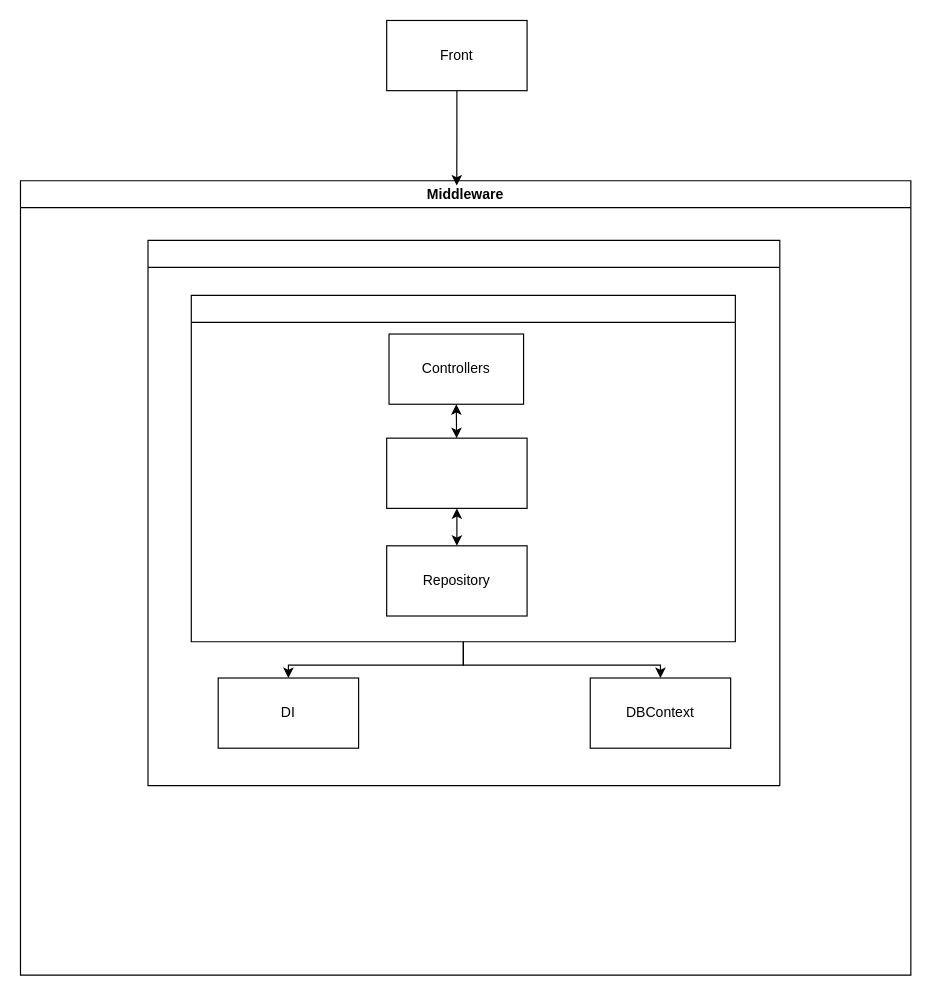
Some shapes in this 931 by 996 pixel diagram are drawn without their labels. Here are the shapes that lost their labels. From the top down, the box of each, then its label:
(386, 437, 527, 508): Service
(190, 294, 735, 642): API
(147, 239, 780, 786): Excepciones
